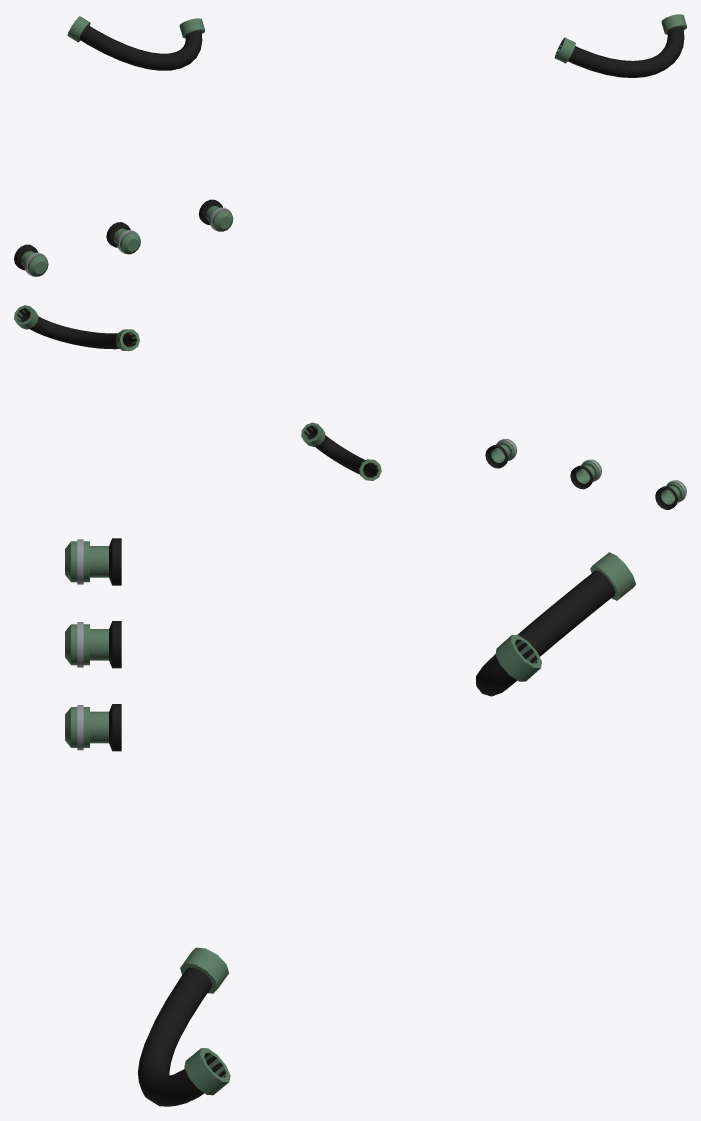
Rendered from t200_hoses.obj.
The picture shows the model from 3 angles, top to bottom: view 1: azimuth 30°, elevation 25°; view 2: azimuth 150°, elevation 25°; view 3: azimuth 270°, elevation 25°; orthographic projection. The views are drawn at different scales.
Parts seen in each view (by area): view 1: t200_hoses; view 2: t200_hoses; view 3: t200_hoses.
Part boxes in pixels (left/top/right/bottom): t200_hoses: left=14, top=14, right=686, bottom=276; t200_hoses: left=14, top=305, right=686, bottom=509; t200_hoses: left=65, top=538, right=635, bottom=1106.
Size of the model in its own units: 4.66 by 0.6881 by 1.81.
